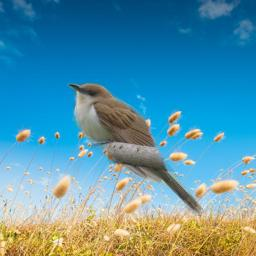Cuckoo: (67, 83, 204, 216)
